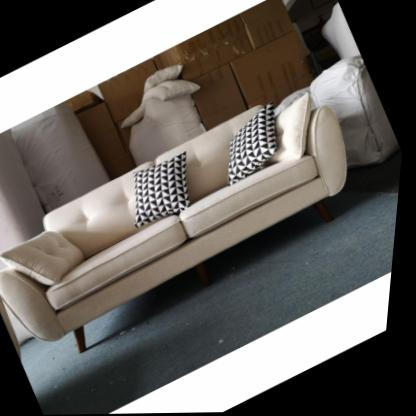Sofa: (0, 73, 387, 376)
